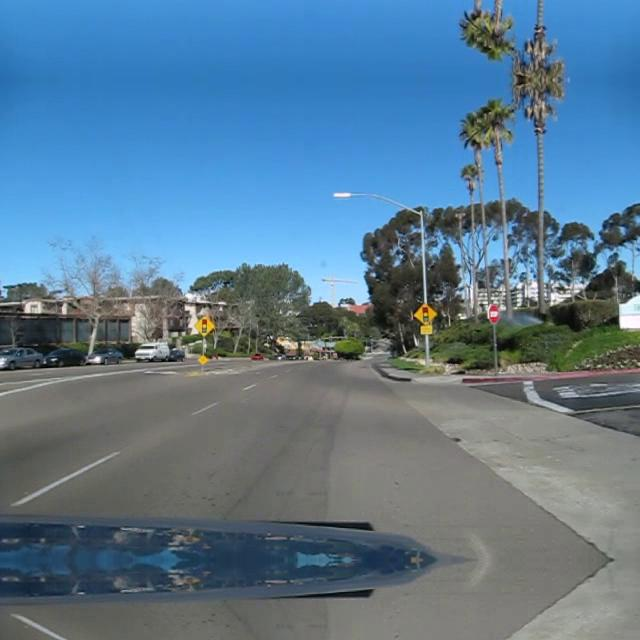signalAhead: (412, 302, 436, 326), (193, 314, 215, 336)
stop: (486, 302, 499, 324)
